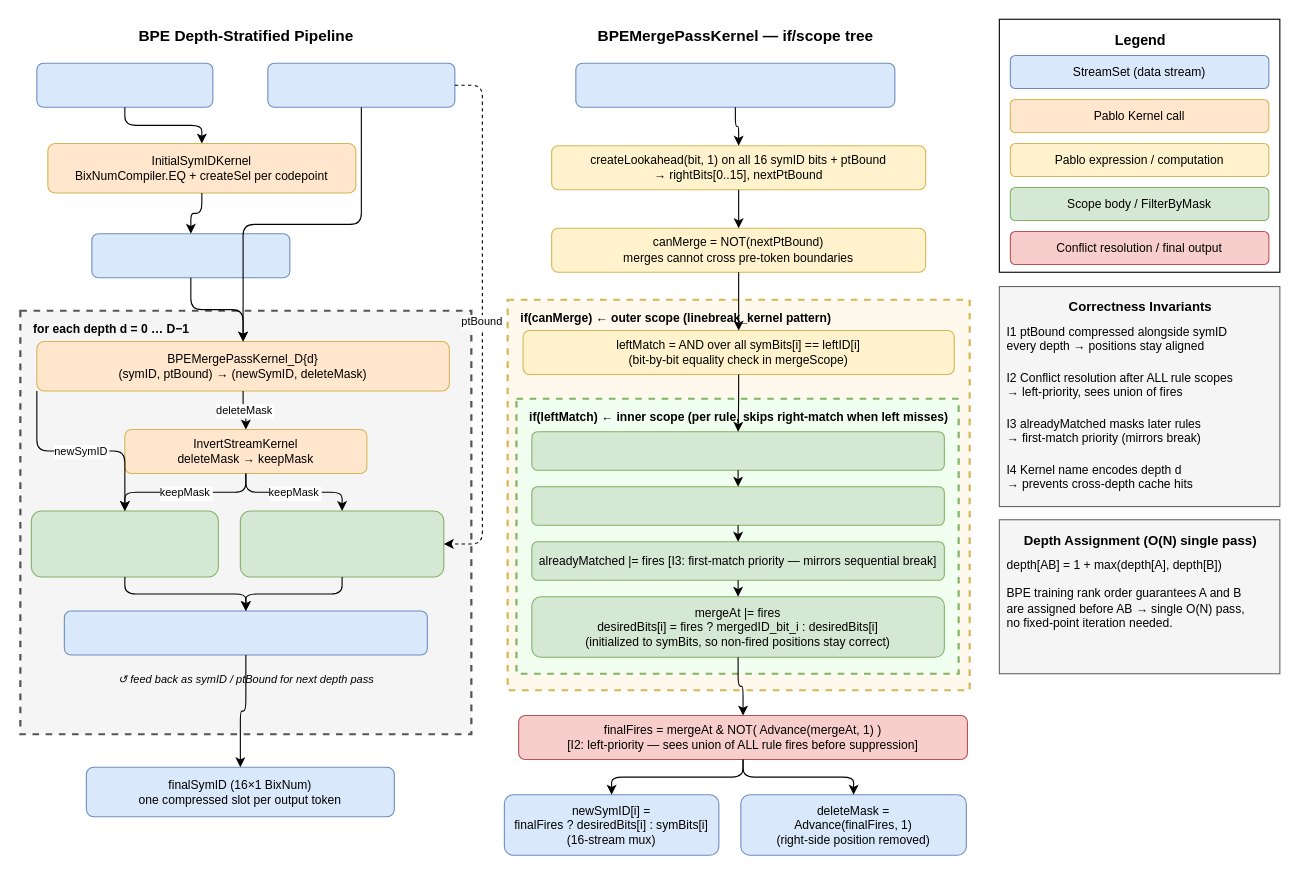
The diagram is 1299 pixels wide and 875 high, and some of its shapes have lost their labels. The shapes that lost their labels are listed below. From the top down, each one's centre as x and y in pixels, then its label:
the point at 124,84: u21 (21×1 BixNum)
the point at 361,84: ptBound (1×1 bitstream)
the point at 735,84: symID (16×1) + ptBound (1×1) LookAhead(1) binding on both inputs
the point at 190,255: symID₀ (16×1 BixNum)
the point at 737,450: rightMatch = AND over all rightBits[i] == rightID[i]
the point at 737,505: fires = rightMatch & NOT(alreadyMatched)
the point at 124,543: FilterByMask keepMask × newSymID → compressedSym
the point at 341,543: FilterByMask [I1] keepMask × ptBound → compressedBound
the point at 245,632: symID_{d+1} (16×1) ptBound_{d+1} (1×1)
